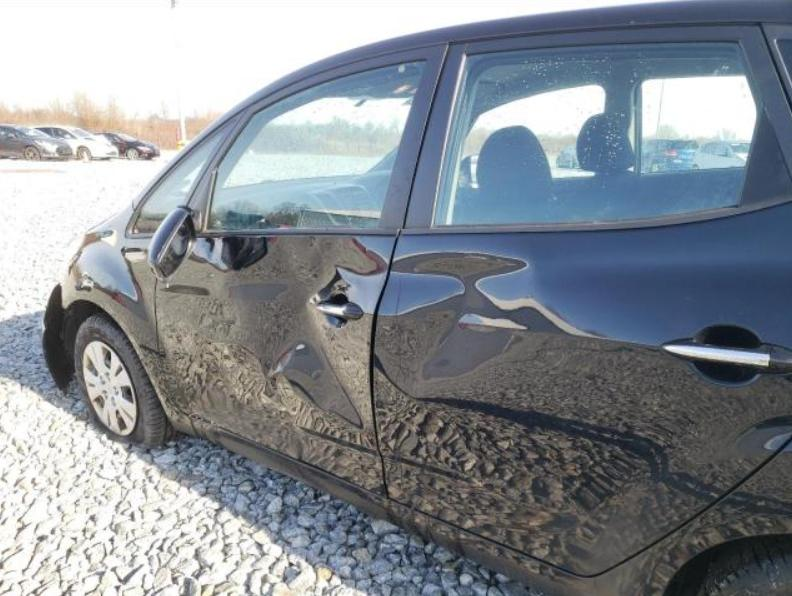Broken part: (75, 311, 172, 449), (148, 171, 210, 281), (366, 273, 391, 429), (42, 283, 73, 392)
Dent: (234, 234, 568, 412)
